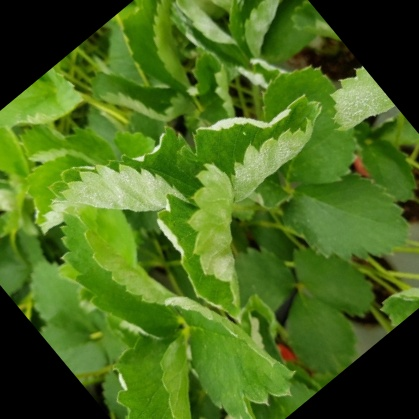Powdery_Leaf: (276, 288, 405, 418), (144, 163, 245, 313), (89, 250, 183, 408), (94, 86, 215, 208), (212, 139, 365, 225), (64, 65, 148, 211), (257, 49, 418, 121), (233, 14, 335, 125), (250, 64, 361, 158), (333, 130, 418, 248), (225, 66, 313, 154), (183, 31, 263, 117), (46, 377, 228, 414), (163, 313, 250, 382)
